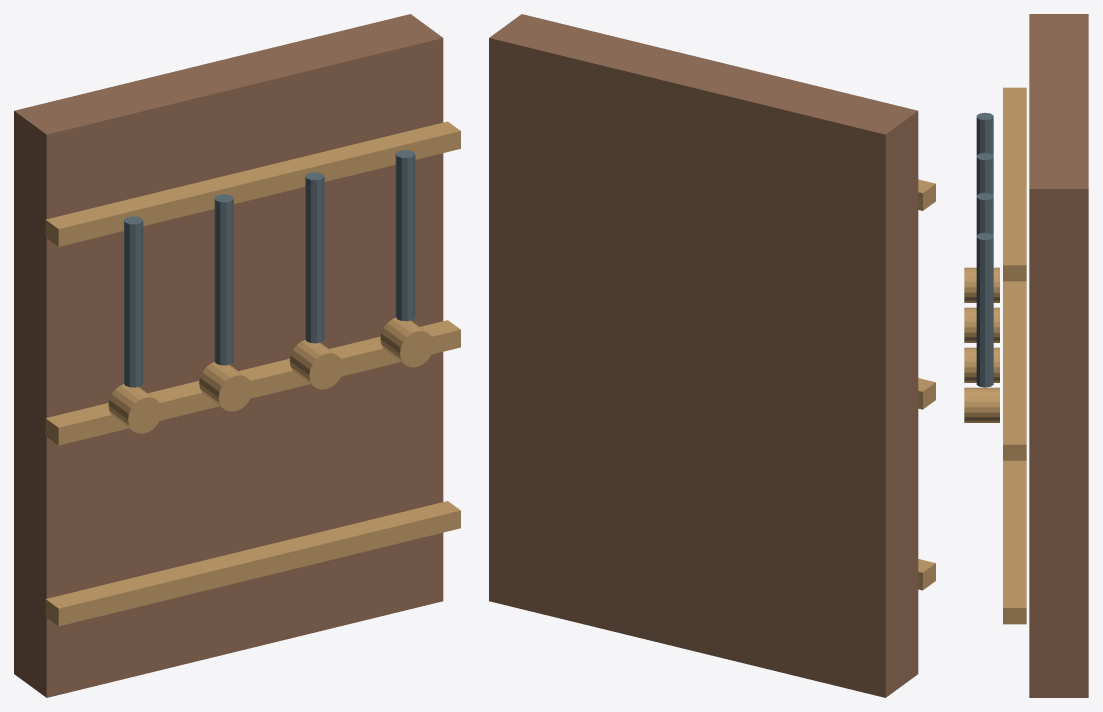
The model's file is ToolRack.glb.
The picture shows the model from 3 angles, left to right: view 1: azimuth 30°, elevation 25°; view 2: azimuth 150°, elevation 25°; view 3: azimuth 270°, elevation 25°; orthographic projection. The views are drawn at different scales.
Parts seen in each view (by area): view 1: ToolRack; view 2: ToolRack; view 3: ToolRack.
Boxes of the visible parts, x1=… form: ToolRack: x1=14, y1=14, x2=460, y2=697; ToolRack: x1=489, y1=14, x2=935, y2=697; ToolRack: x1=964, y1=14, x2=1088, y2=697.
Bounding box in the file's own units: 1.42 × 1.9 × 0.42.
